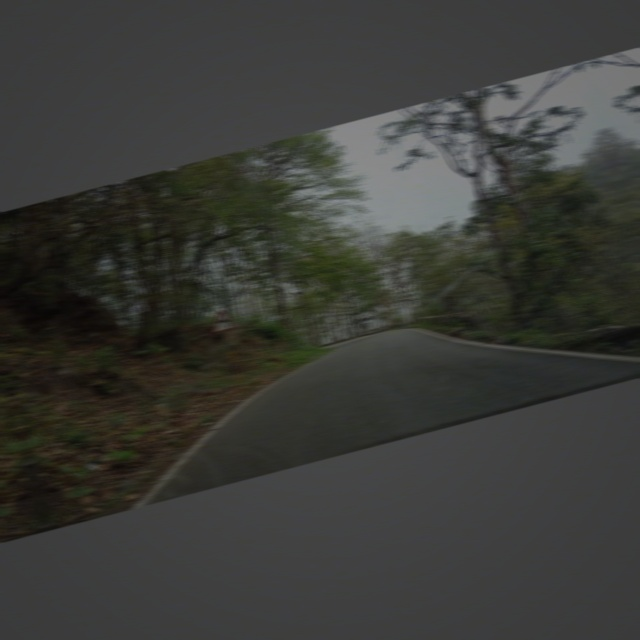Left_Hand_Curve: (206, 303, 238, 339)
